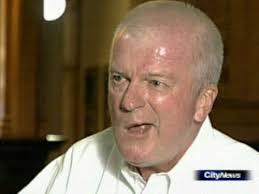strokeMouthMid: (120, 120, 160, 133)
